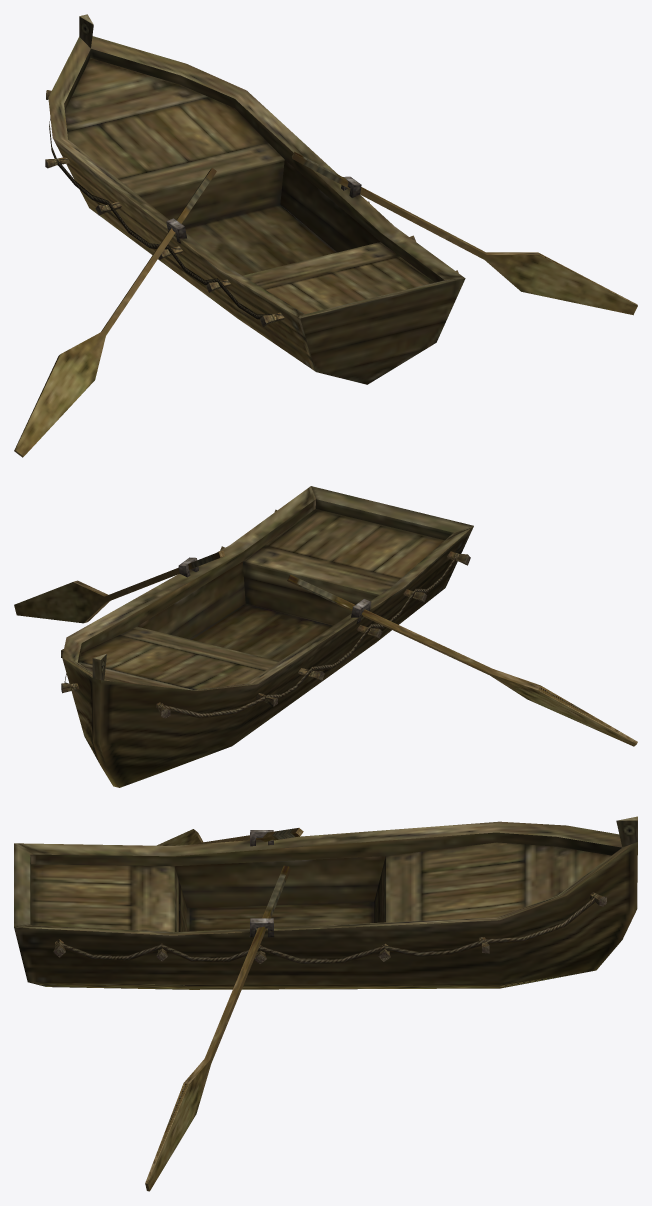
Rendered from DN_lv3_hd_smallship01.FBX.
3 views of the same model, one above another, from view 1: azimuth 30°, elevation 25°; view 2: azimuth 150°, elevation 25°; view 3: azimuth 270°, elevation 25° (orthographic). The views are drawn at different scales.
Visible parts, largest first — view 1: DN_lv3_hd_smallship01; view 2: DN_lv3_hd_smallship01; view 3: DN_lv3_hd_smallship01.
Boxes of the visible parts, x1,y1,x2,y2 form: DN_lv3_hd_smallship01: (14,14,637,457); DN_lv3_hd_smallship01: (14,486,637,787); DN_lv3_hd_smallship01: (14,816,637,1191).
Bounding box in the file's own units: 523 × 163 × 433.
